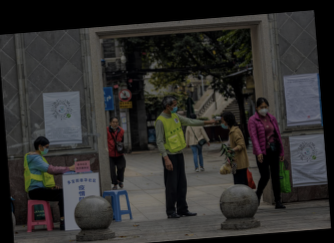mask_weared_incorrect: (110, 119, 118, 128)
with_mask: (257, 103, 268, 115), (169, 101, 178, 114), (219, 118, 228, 129), (41, 144, 49, 156)
